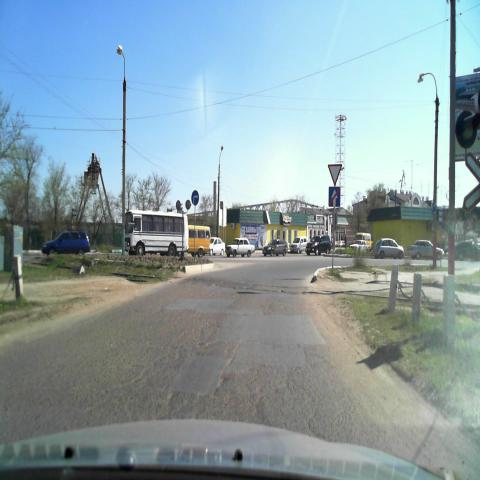4_1_2: (192, 190, 200, 206)
